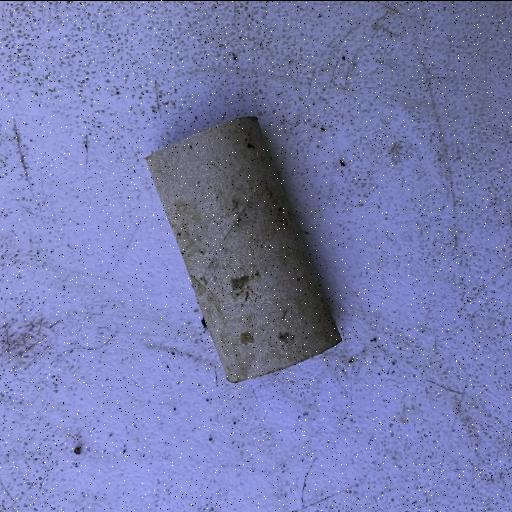Cardboard: (142, 113, 344, 385)
